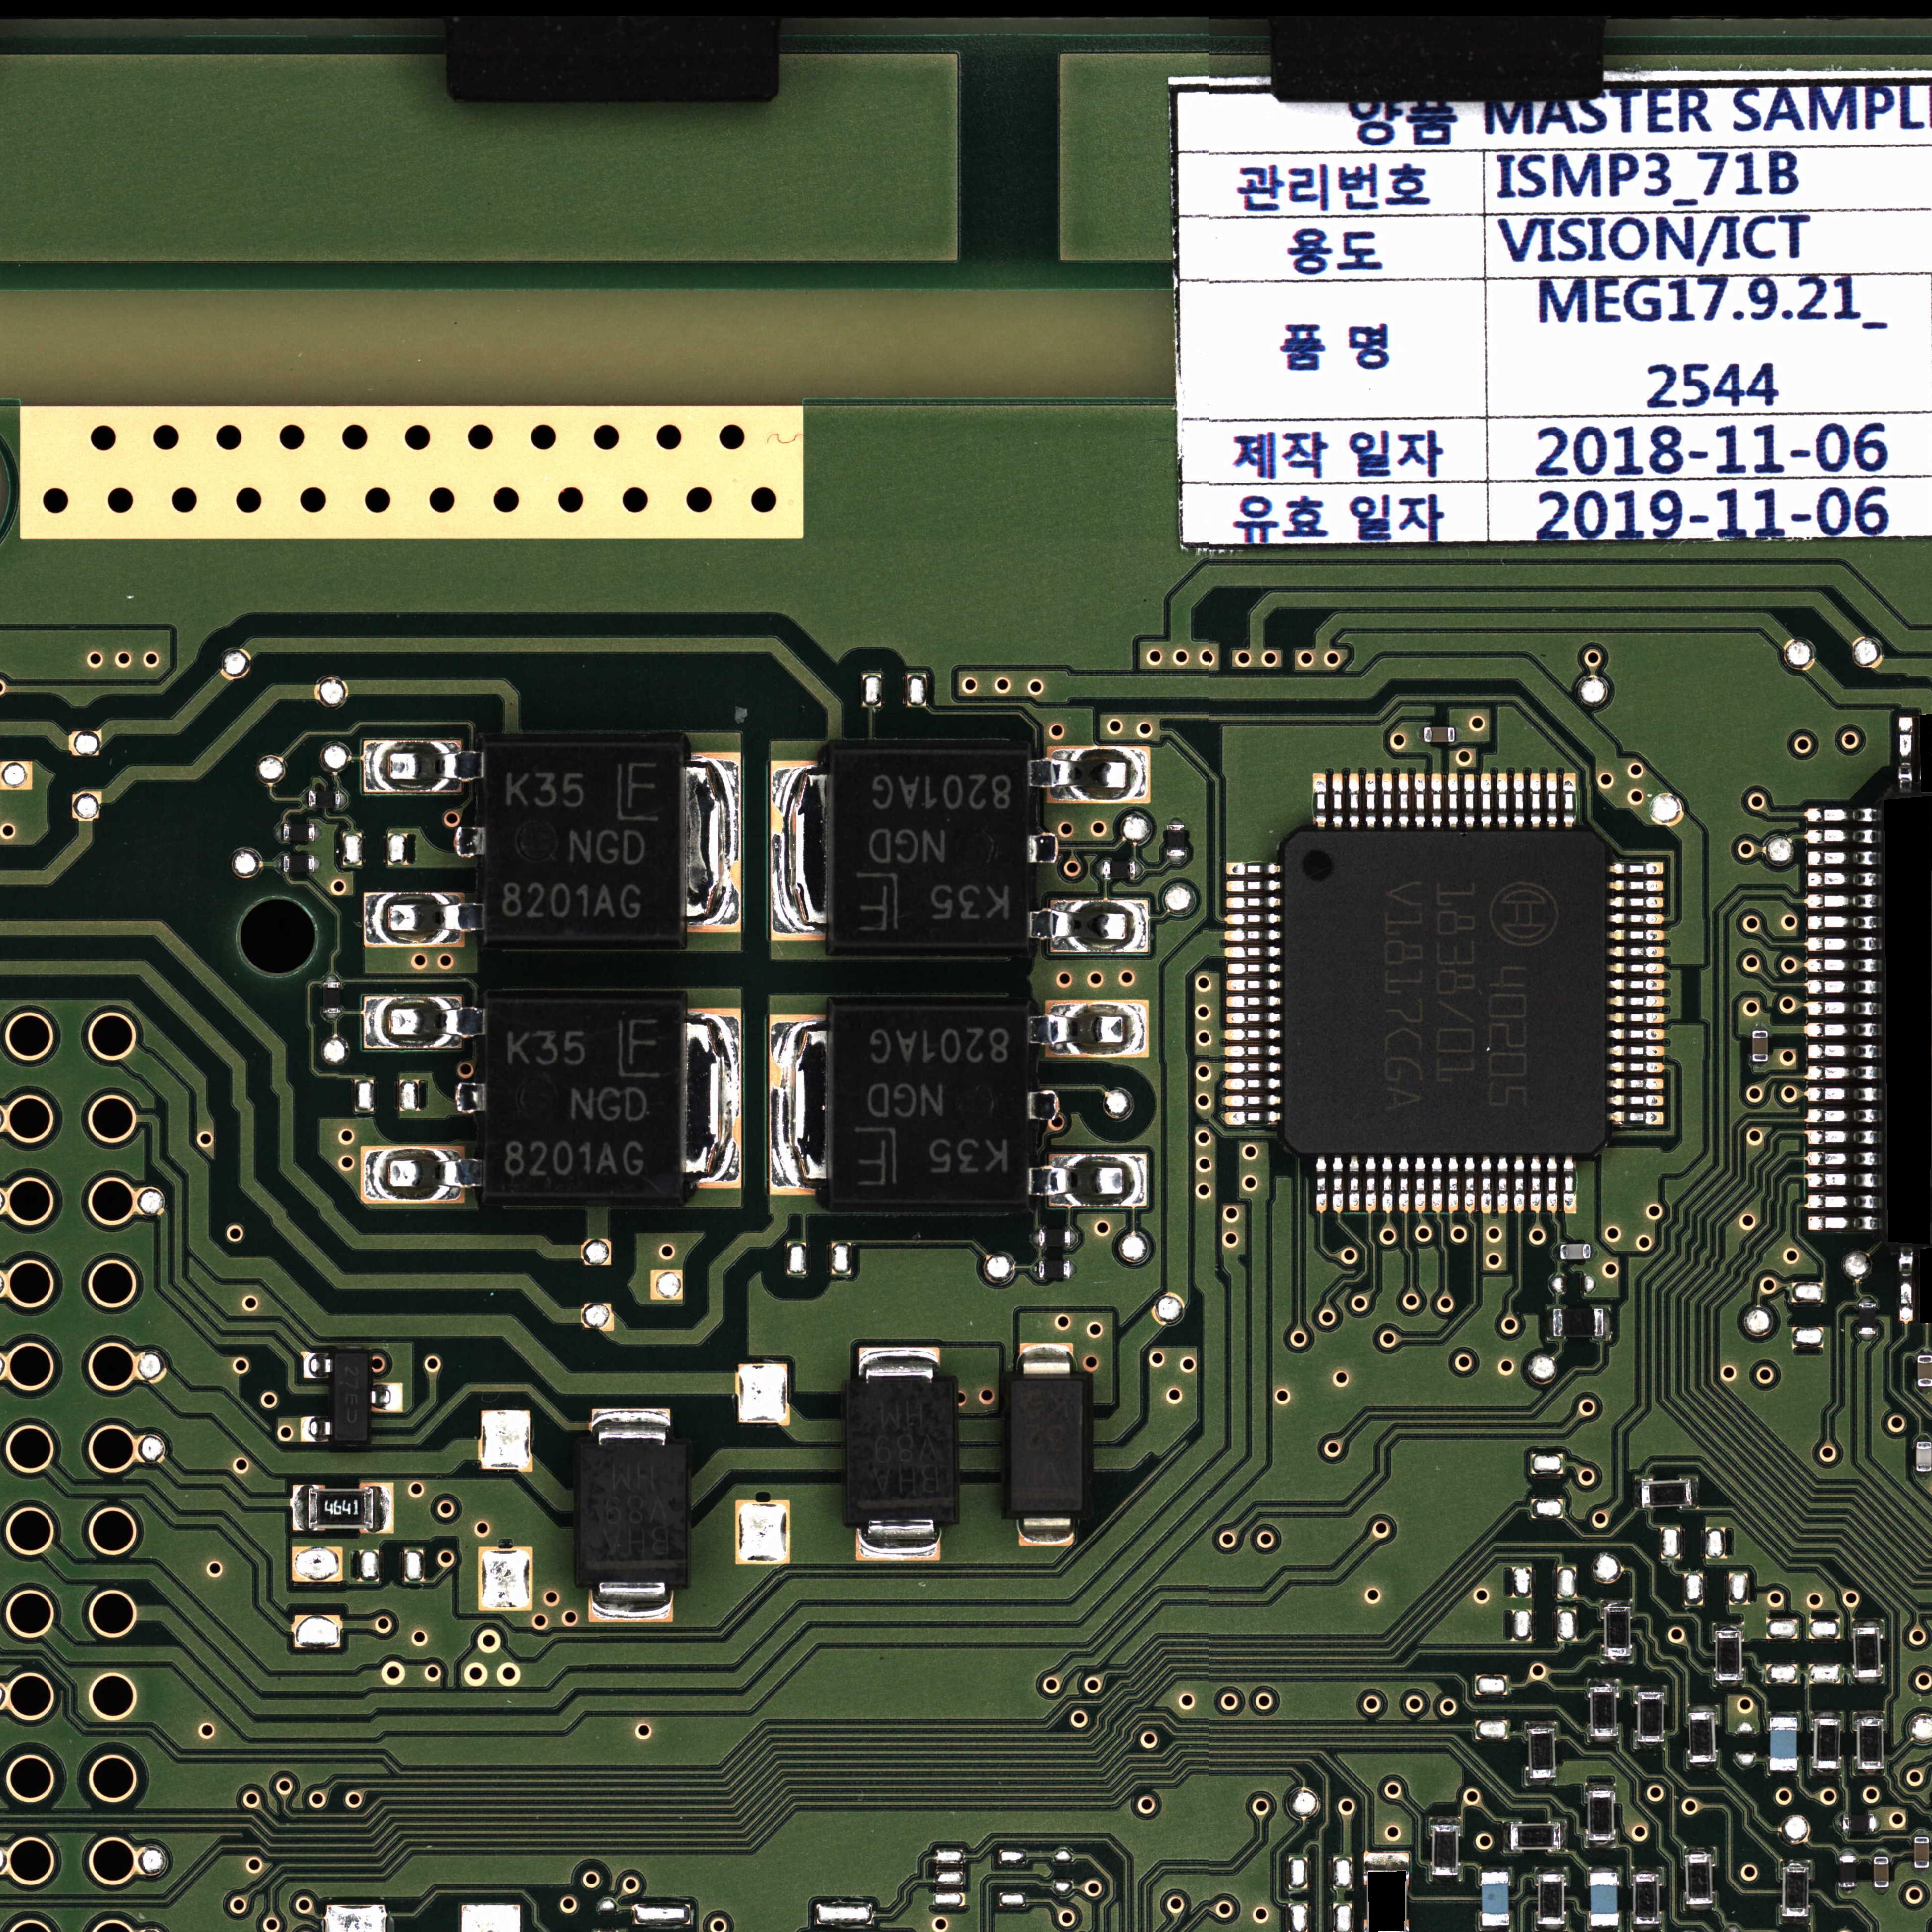Package: (1281, 830, 1607, 1156), (483, 744, 681, 941), (486, 1000, 681, 1199), (833, 751, 1028, 948), (833, 1007, 1027, 1199), (578, 1446, 688, 1582), (847, 1384, 954, 1520), (1009, 1380, 1083, 1512), (333, 1351, 369, 1442), (308, 1489, 374, 1529), (1590, 1873, 1618, 1926), (1482, 1872, 1508, 1926), (1770, 1718, 1797, 1770), (1553, 1309, 1604, 1337), (1854, 1627, 1881, 1677), (1782, 1866, 1808, 1917), (1642, 1480, 1691, 1506), (1432, 1825, 1458, 1875), (1686, 1854, 1712, 1904), (1716, 1631, 1742, 1680), (1511, 1824, 1561, 1849), (1857, 1719, 1883, 1769), (1814, 1718, 1839, 1769), (1539, 1874, 1564, 1925), (1604, 1607, 1630, 1656), (1591, 1687, 1616, 1736), (1638, 1692, 1663, 1742), (1529, 1729, 1554, 1778), (1634, 1874, 1659, 1924), (1589, 1791, 1614, 1840), (1690, 1713, 1715, 1762), (1103, 862, 1135, 879), (1168, 825, 1186, 856), (1039, 1261, 1071, 1279), (1859, 1303, 1876, 1334), (283, 824, 315, 841), (1039, 1230, 1071, 1247), (309, 791, 340, 808), (284, 855, 315, 872), (1843, 1815, 1875, 1832), (1839, 1856, 1856, 1887), (1752, 1031, 1768, 1062), (1874, 1856, 1889, 1887), (1916, 1441, 1932, 1472), (1560, 1244, 1591, 1259), (1424, 727, 1455, 742), (1917, 1355, 1932, 1387), (1914, 1837, 1929, 1868)
Solder: (768, 1015, 833, 1195), (770, 760, 833, 940), (682, 752, 742, 932), (682, 1008, 741, 1189), (360, 1146, 485, 1203), (1029, 745, 1151, 803), (1028, 999, 1149, 1057), (1029, 899, 1150, 954), (364, 996, 485, 1049), (363, 739, 483, 793), (364, 891, 482, 946), (1028, 1153, 1147, 1207), (855, 1520, 940, 1561), (589, 1583, 673, 1622), (860, 1347, 940, 1383), (592, 1409, 671, 1445), (1020, 1343, 1074, 1379), (1019, 1513, 1074, 1546), (1804, 1022, 1878, 1039), (1806, 1194, 1878, 1210), (1805, 1129, 1877, 1145), (1805, 1172, 1877, 1189), (1806, 1108, 1877, 1124), (1806, 1152, 1877, 1168), (1806, 936, 1877, 953), (1806, 1044, 1878, 1060), (1805, 958, 1877, 973), (1899, 1248, 1914, 1324), (1807, 1065, 1876, 1082), (1806, 807, 1876, 823), (1806, 894, 1876, 911), (1806, 915, 1877, 931), (1805, 1087, 1876, 1103), (1806, 1002, 1877, 1017), (1898, 716, 1913, 791), (1807, 850, 1878, 866), (1808, 1215, 1878, 1231), (1807, 979, 1877, 995), (1807, 872, 1879, 887), (1806, 830, 1878, 845), (374, 1483, 393, 1533), (1027, 1090, 1059, 1120), (371, 1383, 403, 1412), (455, 1083, 486, 1113), (455, 826, 485, 857), (1028, 834, 1058, 864), (1364, 1852, 1410, 1870), (1224, 1111, 1281, 1125), (1313, 773, 1327, 829), (1563, 1156, 1577, 1214), (1563, 772, 1576, 829), (301, 1416, 331, 1442), (1609, 1111, 1664, 1125), (1608, 862, 1664, 875), (292, 1485, 308, 1531), (303, 1353, 333, 1378), (1225, 862, 1281, 875), (1224, 913, 1281, 925), (1608, 995, 1665, 1007), (1224, 1045, 1281, 1057), (1608, 979, 1665, 991), (1224, 1078, 1281, 1090), (1608, 1028, 1665, 1040), (1224, 946, 1281, 958), (1224, 1028, 1281, 1040), (1224, 929, 1281, 941), (1608, 880, 1664, 892), (1608, 1078, 1664, 1090), (1225, 995, 1281, 1007), (1226, 979, 1281, 991), (1225, 896, 1281, 908), (1225, 1012, 1281, 1023), (1223, 1095, 1281, 1106), (1608, 946, 1665, 957), (1608, 963, 1665, 974), (1608, 1045, 1665, 1057), (1224, 1062, 1281, 1073), (1608, 929, 1665, 941), (1608, 1012, 1665, 1023), (1608, 1062, 1665, 1073), (1608, 913, 1665, 924), (1480, 773, 1492, 829), (1365, 773, 1376, 829), (1608, 897, 1664, 908), (1431, 773, 1442, 829), (1398, 773, 1409, 829), (1481, 1156, 1492, 1214), (1530, 1156, 1541, 1214), (1514, 1156, 1525, 1214), (1399, 1156, 1409, 1214), (1609, 1095, 1664, 1106), (1464, 1156, 1475, 1213), (1547, 1156, 1558, 1213), (1497, 1156, 1508, 1213), (1415, 1156, 1426, 1213), (1226, 880, 1281, 891), (1365, 1156, 1376, 1213), (1227, 963, 1281, 974), (1546, 773, 1557, 829), (1448, 773, 1458, 830), (1530, 773, 1541, 829), (1497, 773, 1508, 829), (1349, 773, 1359, 829), (1332, 773, 1343, 829), (1382, 773, 1393, 829), (1414, 773, 1425, 829), (1464, 774, 1475, 829), (1448, 1156, 1458, 1213), (1382, 1156, 1393, 1213), (1432, 1156, 1442, 1213), (1333, 1156, 1343, 1213), (1316, 1156, 1327, 1213), (1514, 773, 1524, 829), (1349, 1156, 1359, 1211), (1604, 1307, 1613, 1339), (1430, 1816, 1461, 1825), (1688, 1703, 1717, 1712), (1852, 1619, 1883, 1627), (1852, 1677, 1884, 1685), (1545, 1307, 1553, 1339), (1811, 1769, 1842, 1777), (1684, 1846, 1715, 1854), (1536, 1866, 1567, 1874), (1811, 1710, 1842, 1718), (1588, 1679, 1619, 1687), (1601, 1656, 1633, 1664), (1780, 1917, 1811, 1925), (1853, 1710, 1884, 1718), (1586, 1840, 1616, 1848), (1780, 1858, 1811, 1866), (1635, 1684, 1665, 1692), (1602, 1598, 1632, 1606), (1503, 1821, 1511, 1851), (1713, 1680, 1745, 1688), (1712, 1623, 1744, 1630), (1588, 1736, 1619, 1743), (1635, 1742, 1666, 1749), (1525, 1778, 1556, 1786), (1684, 1904, 1715, 1912), (1632, 1866, 1662, 1874), (1526, 1721, 1556, 1729), (1634, 1478, 1641, 1508), (1585, 1783, 1615, 1790), (1769, 1710, 1799, 1717), (1688, 1762, 1718, 1770), (1691, 1478, 1699, 1508), (1479, 1865, 1511, 1872), (1535, 1925, 1568, 1932), (1854, 1769, 1885, 1776), (1589, 1865, 1619, 1872), (1588, 1926, 1620, 1932), (1479, 1926, 1512, 1932), (1631, 1925, 1663, 1931), (1431, 1876, 1460, 1883), (1561, 1821, 1568, 1851), (1768, 1770, 1798, 1776), (1167, 856, 1187, 863), (1858, 1334, 1877, 1341), (1168, 818, 1185, 825), (1858, 1296, 1877, 1303), (1071, 1230, 1078, 1247), (276, 824, 283, 842), (1874, 1887, 1889, 1895), (1917, 1348, 1932, 1355), (340, 792, 347, 808), (1032, 1230, 1039, 1247), (1840, 1849, 1855, 1857), (315, 824, 322, 841), (1839, 1887, 1856, 1894), (1591, 1244, 1597, 1259), (1914, 1869, 1930, 1876), (1071, 1260, 1077, 1278), (1033, 1261, 1039, 1279), (1417, 727, 1424, 742), (1917, 1387, 1932, 1394), (1553, 1244, 1560, 1260), (1097, 862, 1103, 878), (1135, 863, 1142, 878), (1874, 1850, 1889, 1856), (1914, 1831, 1929, 1837), (303, 790, 309, 807), (1752, 1025, 1768, 1031), (278, 855, 284, 871), (315, 856, 321, 872), (1455, 727, 1462, 742), (1875, 1816, 1881, 1831), (1836, 1816, 1843, 1831), (1751, 1062, 1769, 1067), (1915, 1472, 1932, 1477), (1916, 1435, 1931, 1441)
